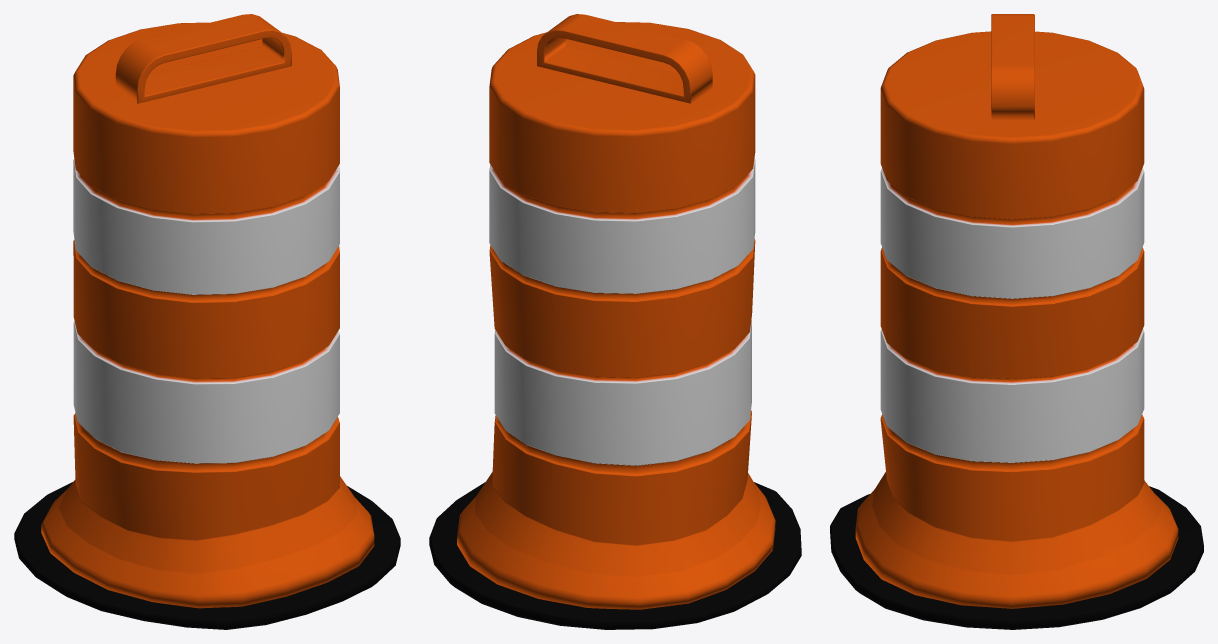
The model's file is barrierBucketSingle.fbx.
3 renders of one model, left to right at view 1: azimuth 30°, elevation 25°; view 2: azimuth 150°, elevation 25°; view 3: azimuth 270°, elevation 25°, orthographic.
Visible parts, largest first — view 1: pCylinder76; view 2: pCylinder76; view 3: pCylinder76.
Boxes of the visible parts, x1,y1,x2,y2 form: pCylinder76: (14,14,400,629); pCylinder76: (429,14,801,629); pCylinder76: (830,14,1203,629).
Size of the model in its own units: 0.4595 by 0.7013 by 0.4658.
